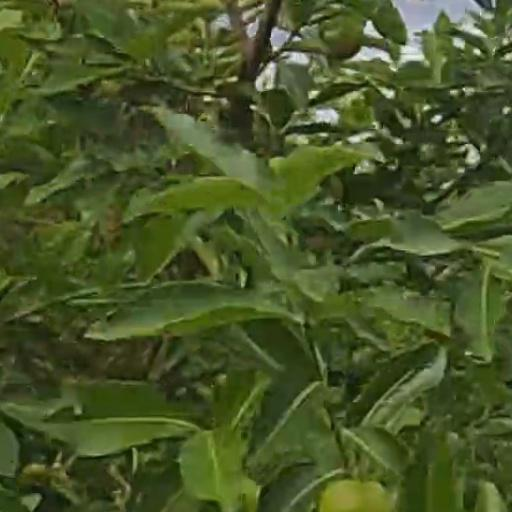acerola_verde: (321, 478, 385, 512), (321, 17, 360, 59)
